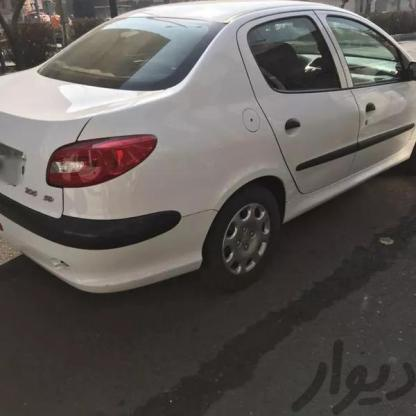Car: (0, 0, 416, 293)
